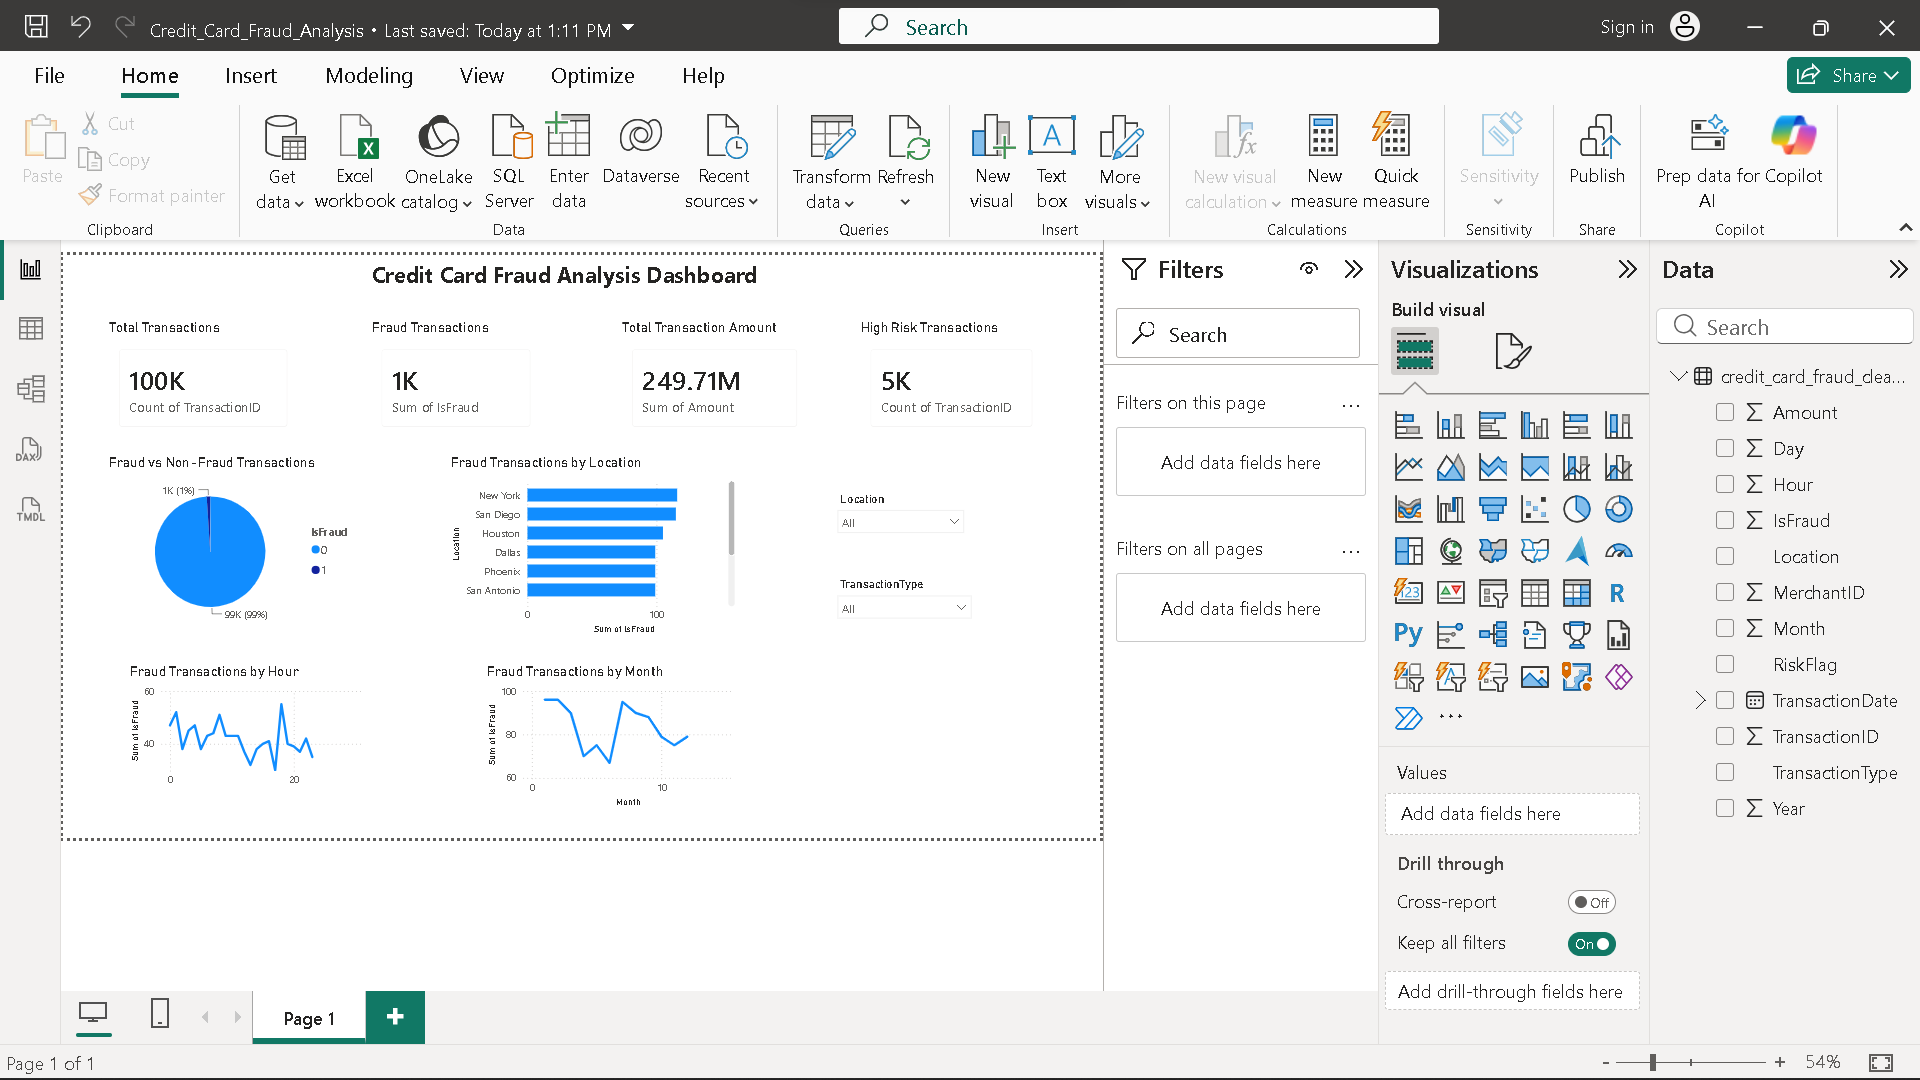

Layout of this report page (visuals, bound fields, positions):
{"tool":"powerbi","page":{"name":"Page 1","canvas":[1280,720],"ordinal":0},"visuals":[{"type":"cardVisual","title":"Fraud Transactions","fields":{"Data":["Sum(credit_card_fraud_cleaned.IsFraud)"]},"box":[376,80,218,150],"z":0},{"type":"cardVisual","title":"Total Transaction Amount","fields":{"Data":["Sum(credit_card_fraud_cleaned.Amount)"]},"box":[686,80,238,150],"z":1000},{"type":"cardVisual","title":"High Risk Transactions","fields":{"Data":["CountNonNull(credit_card_fraud_cleaned.TransactionID)"]},"box":[980,80,234,150],"z":3000},{"type":"pieChart","title":"Fraud vs Non-Fraud Transactions","fields":{"Y":["CountNonNull(credit_card_fraud_cleaned.TransactionID)"],"Category":["credit_card_fraud_cleaned.IsFraud"]},"box":[52,246,324,220],"z":4000},{"type":"clusteredBarChart","title":"Fraud Transactions by Location","fields":{"Category":["credit_card_fraud_cleaned.Location"],"Y":["Sum(credit_card_fraud_cleaned.IsFraud)"]},"box":[474,246,360,226],"z":5000},{"type":"lineChart","title":"Fraud Transactions by Hour","fields":{"Category":["credit_card_fraud_cleaned.Hour"],"Y":["Sum(credit_card_fraud_cleaned.IsFraud)"]},"box":[77.8,503.7,298.1,163],"z":6000},{"type":"slicer","title":"Fraud Transactions by Transaction Type","fields":{"Values":["credit_card_fraud_cleaned.Location"]},"box":[946.2,287.5,176.2,82.5],"z":6001},{"type":"cardVisual","title":"Total Transactions","fields":{"Data":["CountNonNull(credit_card_fraud_cleaned.TransactionID)"]},"box":[52,80,242,150],"z":6002},{"type":"slicer","fields":{"Values":["credit_card_fraud_cleaned.TransactionType"]},"box":[946.2,392.5,185,97.5],"z":6003},{"type":"textbox","box":[376.2,0,527.5,66.2],"z":6004},{"type":"lineChart","title":"Fraud Transactions by Month","fields":{"Category":["credit_card_fraud_cleaned.Month"],"Y":["Sum(credit_card_fraud_cleaned.IsFraud)"]},"box":[518.5,503.7,314.8,181.5],"z":6005}]}

Visuals, with their boxes on the page's 1280x720 design canvas (x1, y1, x2, y2). These are canvas units, not pixel positions in the 1920x1080 screenshot, which may show the page scaled, cropped or inside an application window:
"Fraud Transactions" cardVisual: Rect(376, 80, 594, 230)
"Total Transaction Amount" cardVisual: Rect(686, 80, 924, 230)
"High Risk Transactions" cardVisual: Rect(980, 80, 1214, 230)
"Fraud vs Non-Fraud Transactions" pieChart: Rect(52, 246, 376, 466)
"Fraud Transactions by Location" clusteredBarChart: Rect(474, 246, 834, 472)
"Fraud Transactions by Hour" lineChart: Rect(78, 504, 376, 667)
"Fraud Transactions by Transaction Type" slicer: Rect(946, 288, 1122, 370)
"Total Transactions" cardVisual: Rect(52, 80, 294, 230)
slicer - credit_card_fraud_cleaned.TransactionType: Rect(946, 392, 1131, 490)
textbox: Rect(376, 0, 904, 66)
"Fraud Transactions by Month" lineChart: Rect(518, 504, 833, 685)
